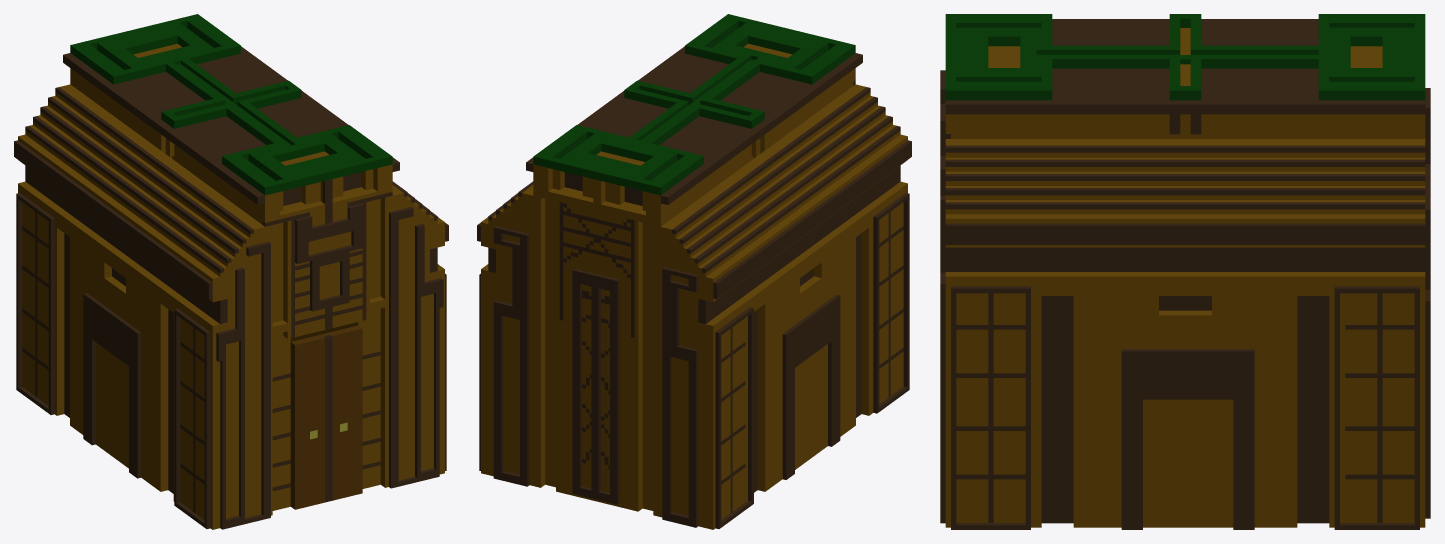
Rendered from HouseLv2.obj.
The picture shows the model from 3 angles, left to right: view 1: azimuth 30°, elevation 25°; view 2: azimuth 150°, elevation 25°; view 3: azimuth 270°, elevation 25°; orthographic projection. The views are drawn at different scales.
Bounding box in the file's own units: 64 × 84 × 92.
Materials: 1 (1 with a texture image).
